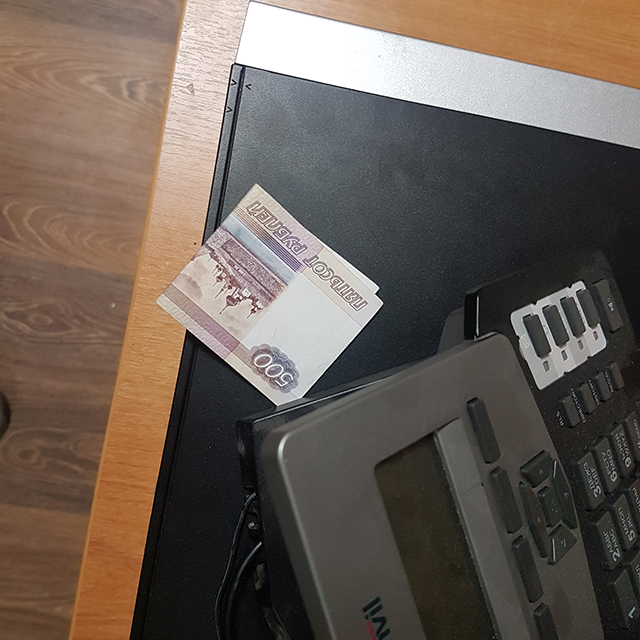banknotes: (154, 185, 384, 405)
